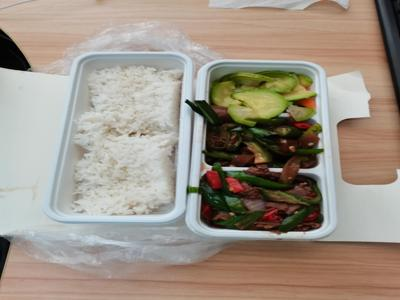cqj: (205, 169, 325, 231)
rice: (81, 62, 177, 219)
